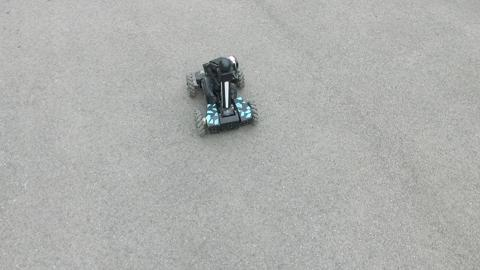chariot: (177, 51, 268, 142)
